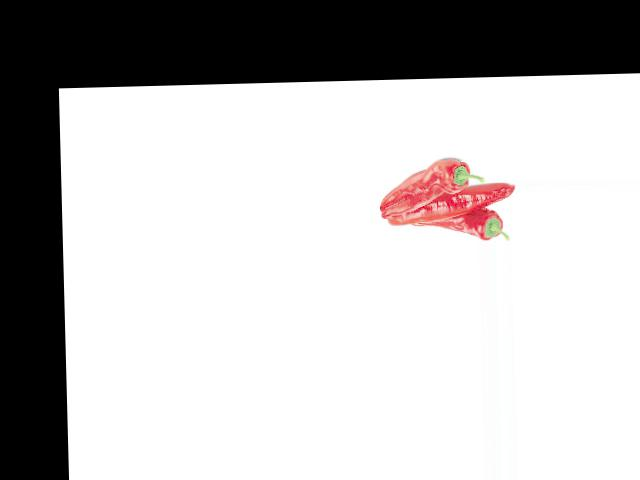bell_pepper: (377, 154, 487, 206)
